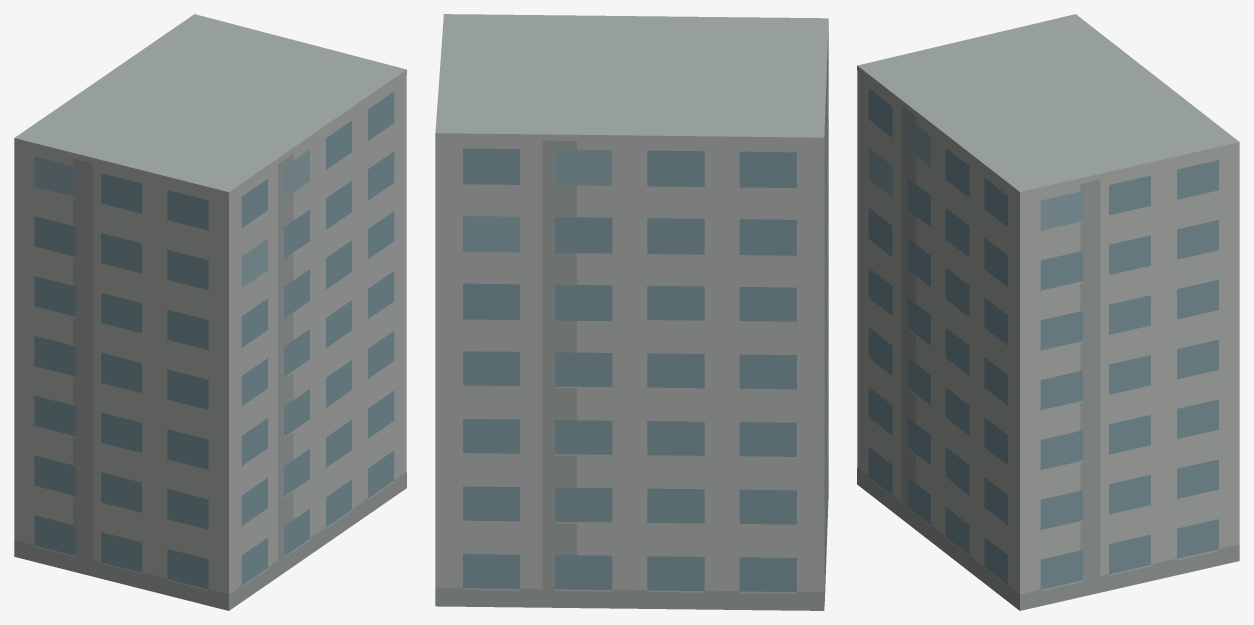
File: survey-upis-32762738.glb
3 renders of one model, left to right at view 1: azimuth 30°, elevation 25°; view 2: azimuth 150°, elevation 25°; view 3: azimuth 270°, elevation 25°, orthographic. The views are drawn at different scales.
Visible parts, largest first — view 1: survey-upis-32762738.tmp; view 2: survey-upis-32762738.tmp; view 3: survey-upis-32762738.tmp.
Boxes of the visible parts, x1,y1,x2,y2 form: survey-upis-32762738.tmp: [14, 14, 406, 610]; survey-upis-32762738.tmp: [435, 14, 828, 610]; survey-upis-32762738.tmp: [857, 14, 1239, 610].
Size of the model in its own units: 16.68 by 18.3 by 15.15.
